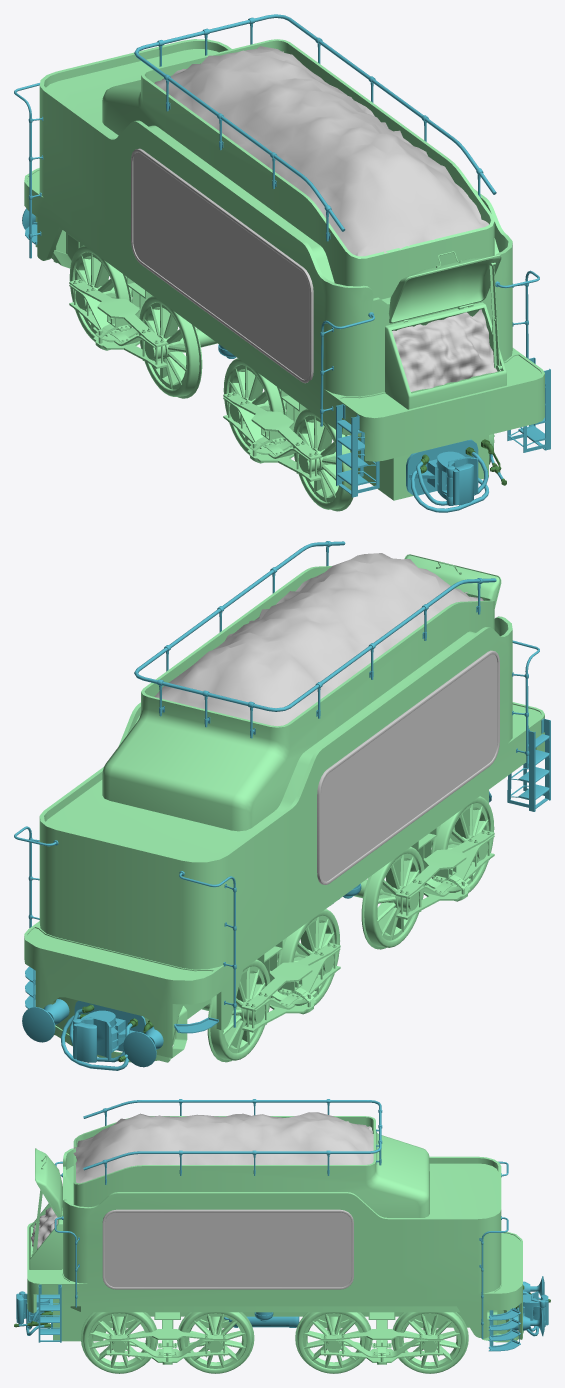
Rendered from Coal_Cart.fbx.
The picture shows the model from 3 angles, top to bottom: view 1: azimuth 30°, elevation 25°; view 2: azimuth 150°, elevation 25°; view 3: azimuth 270°, elevation 25°; orthographic projection. The views are drawn at different scales.
Parts seen in each view (by area): view 1: Coal_Cart; view 2: Coal_Cart; view 3: Coal_Cart.
Part boxes in pixels (<box>): Coal_Cart: <box>14,14,550,512</box>; Coal_Cart: <box>14,541,550,1070</box>; Coal_Cart: <box>14,1099,550,1373</box>.
Bounding box in the file's own units: 233 × 347 × 726.
